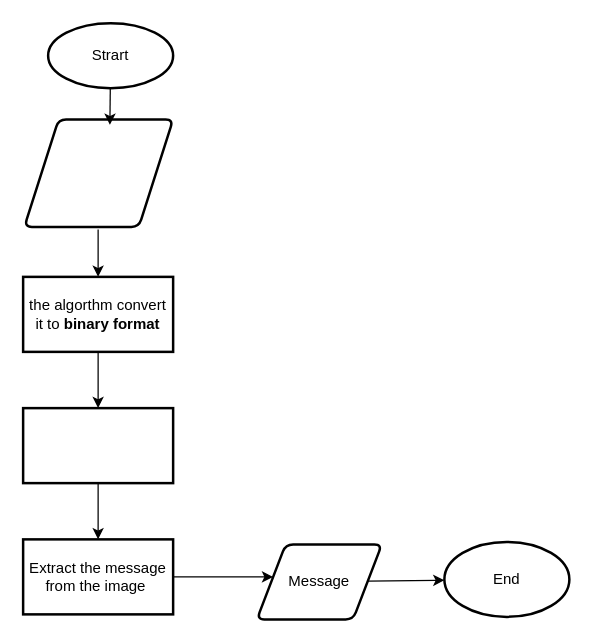
Image size: 591x641. Some labels were removed from this diagram. The shapes that lost their labels are listed below. From the top down, each one's centre as x and y in pixels, then its label:
[98,173]: Stego_image
[97,445]: brack the layers of colores
